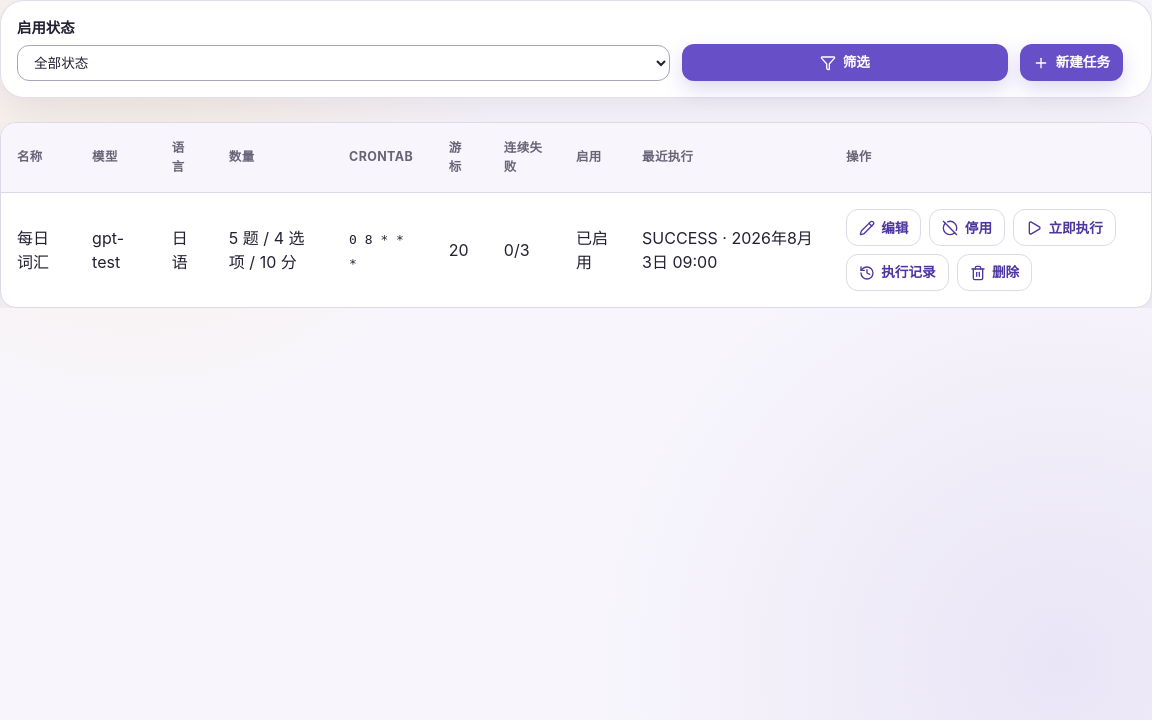
Test: 管理员 AI 任务页 › 新建任务按钮在筛选行，点击打开表单弹窗
Expected: the text "每日词汇" is shown, [1,193,76,307]
Expected: the element with class "admin-filter-card" is shown, [0,0,1151,98]
Click the button "新建任务" at (1072, 63), box [1020,44,1123,81]
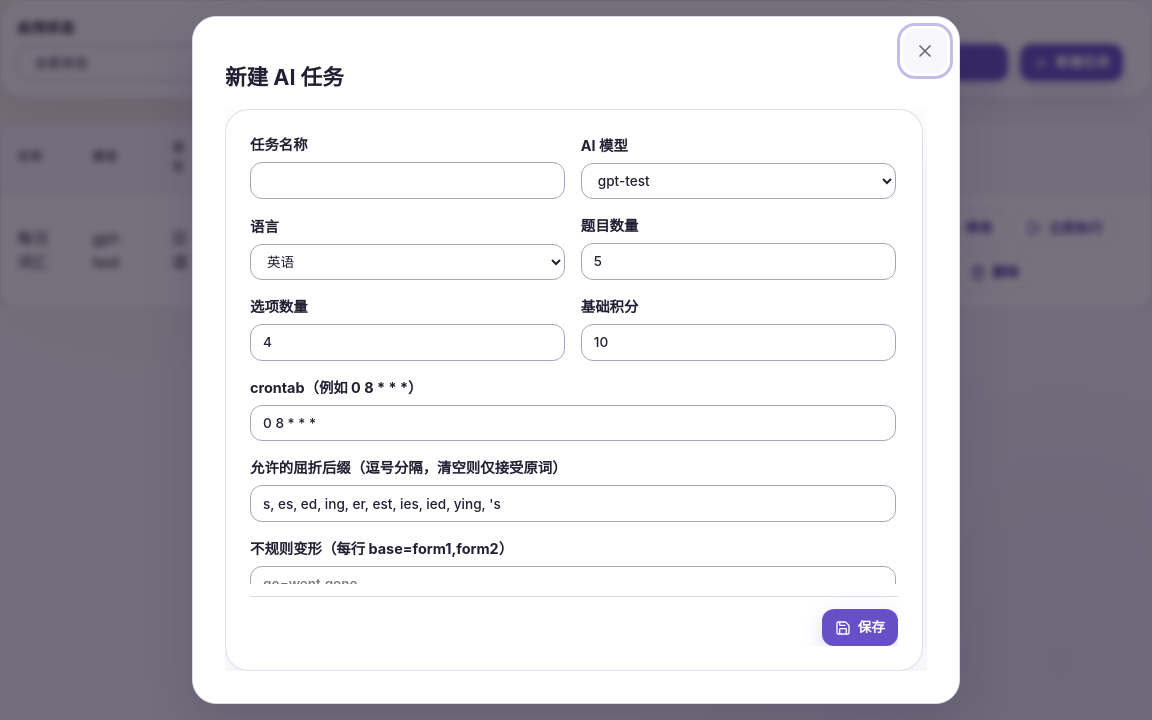
Expected: the dialog "新建 AI 任务" is shown
